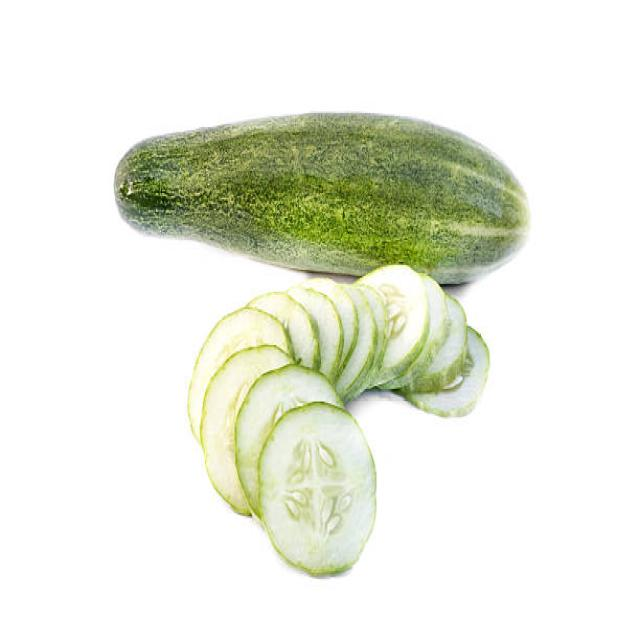cucumber: (115, 111, 532, 289)
